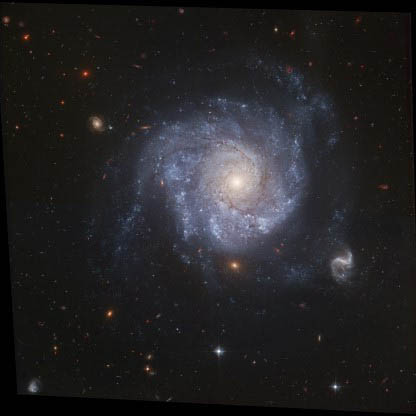NGC 1309: (80, 64, 363, 324)
